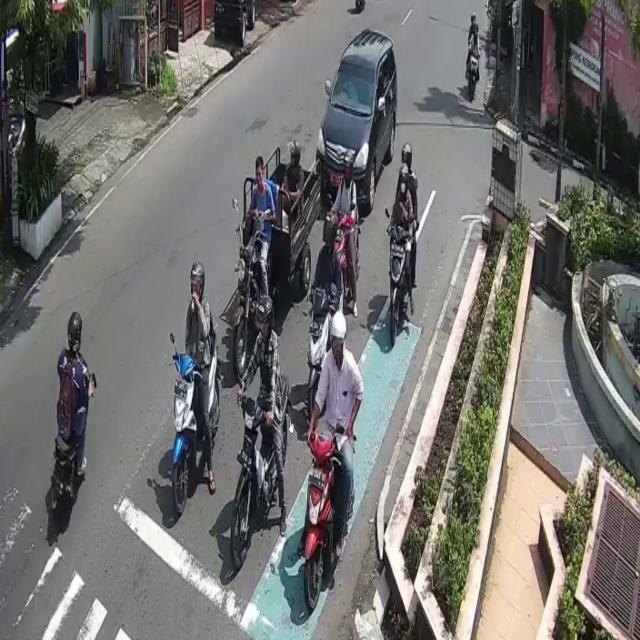bus: (230, 374, 291, 563), (300, 431, 353, 616), (173, 321, 220, 523), (49, 350, 92, 510), (233, 240, 270, 384), (386, 224, 408, 343), (308, 286, 328, 413), (467, 44, 480, 108)
motorcycle: (315, 29, 397, 214)
